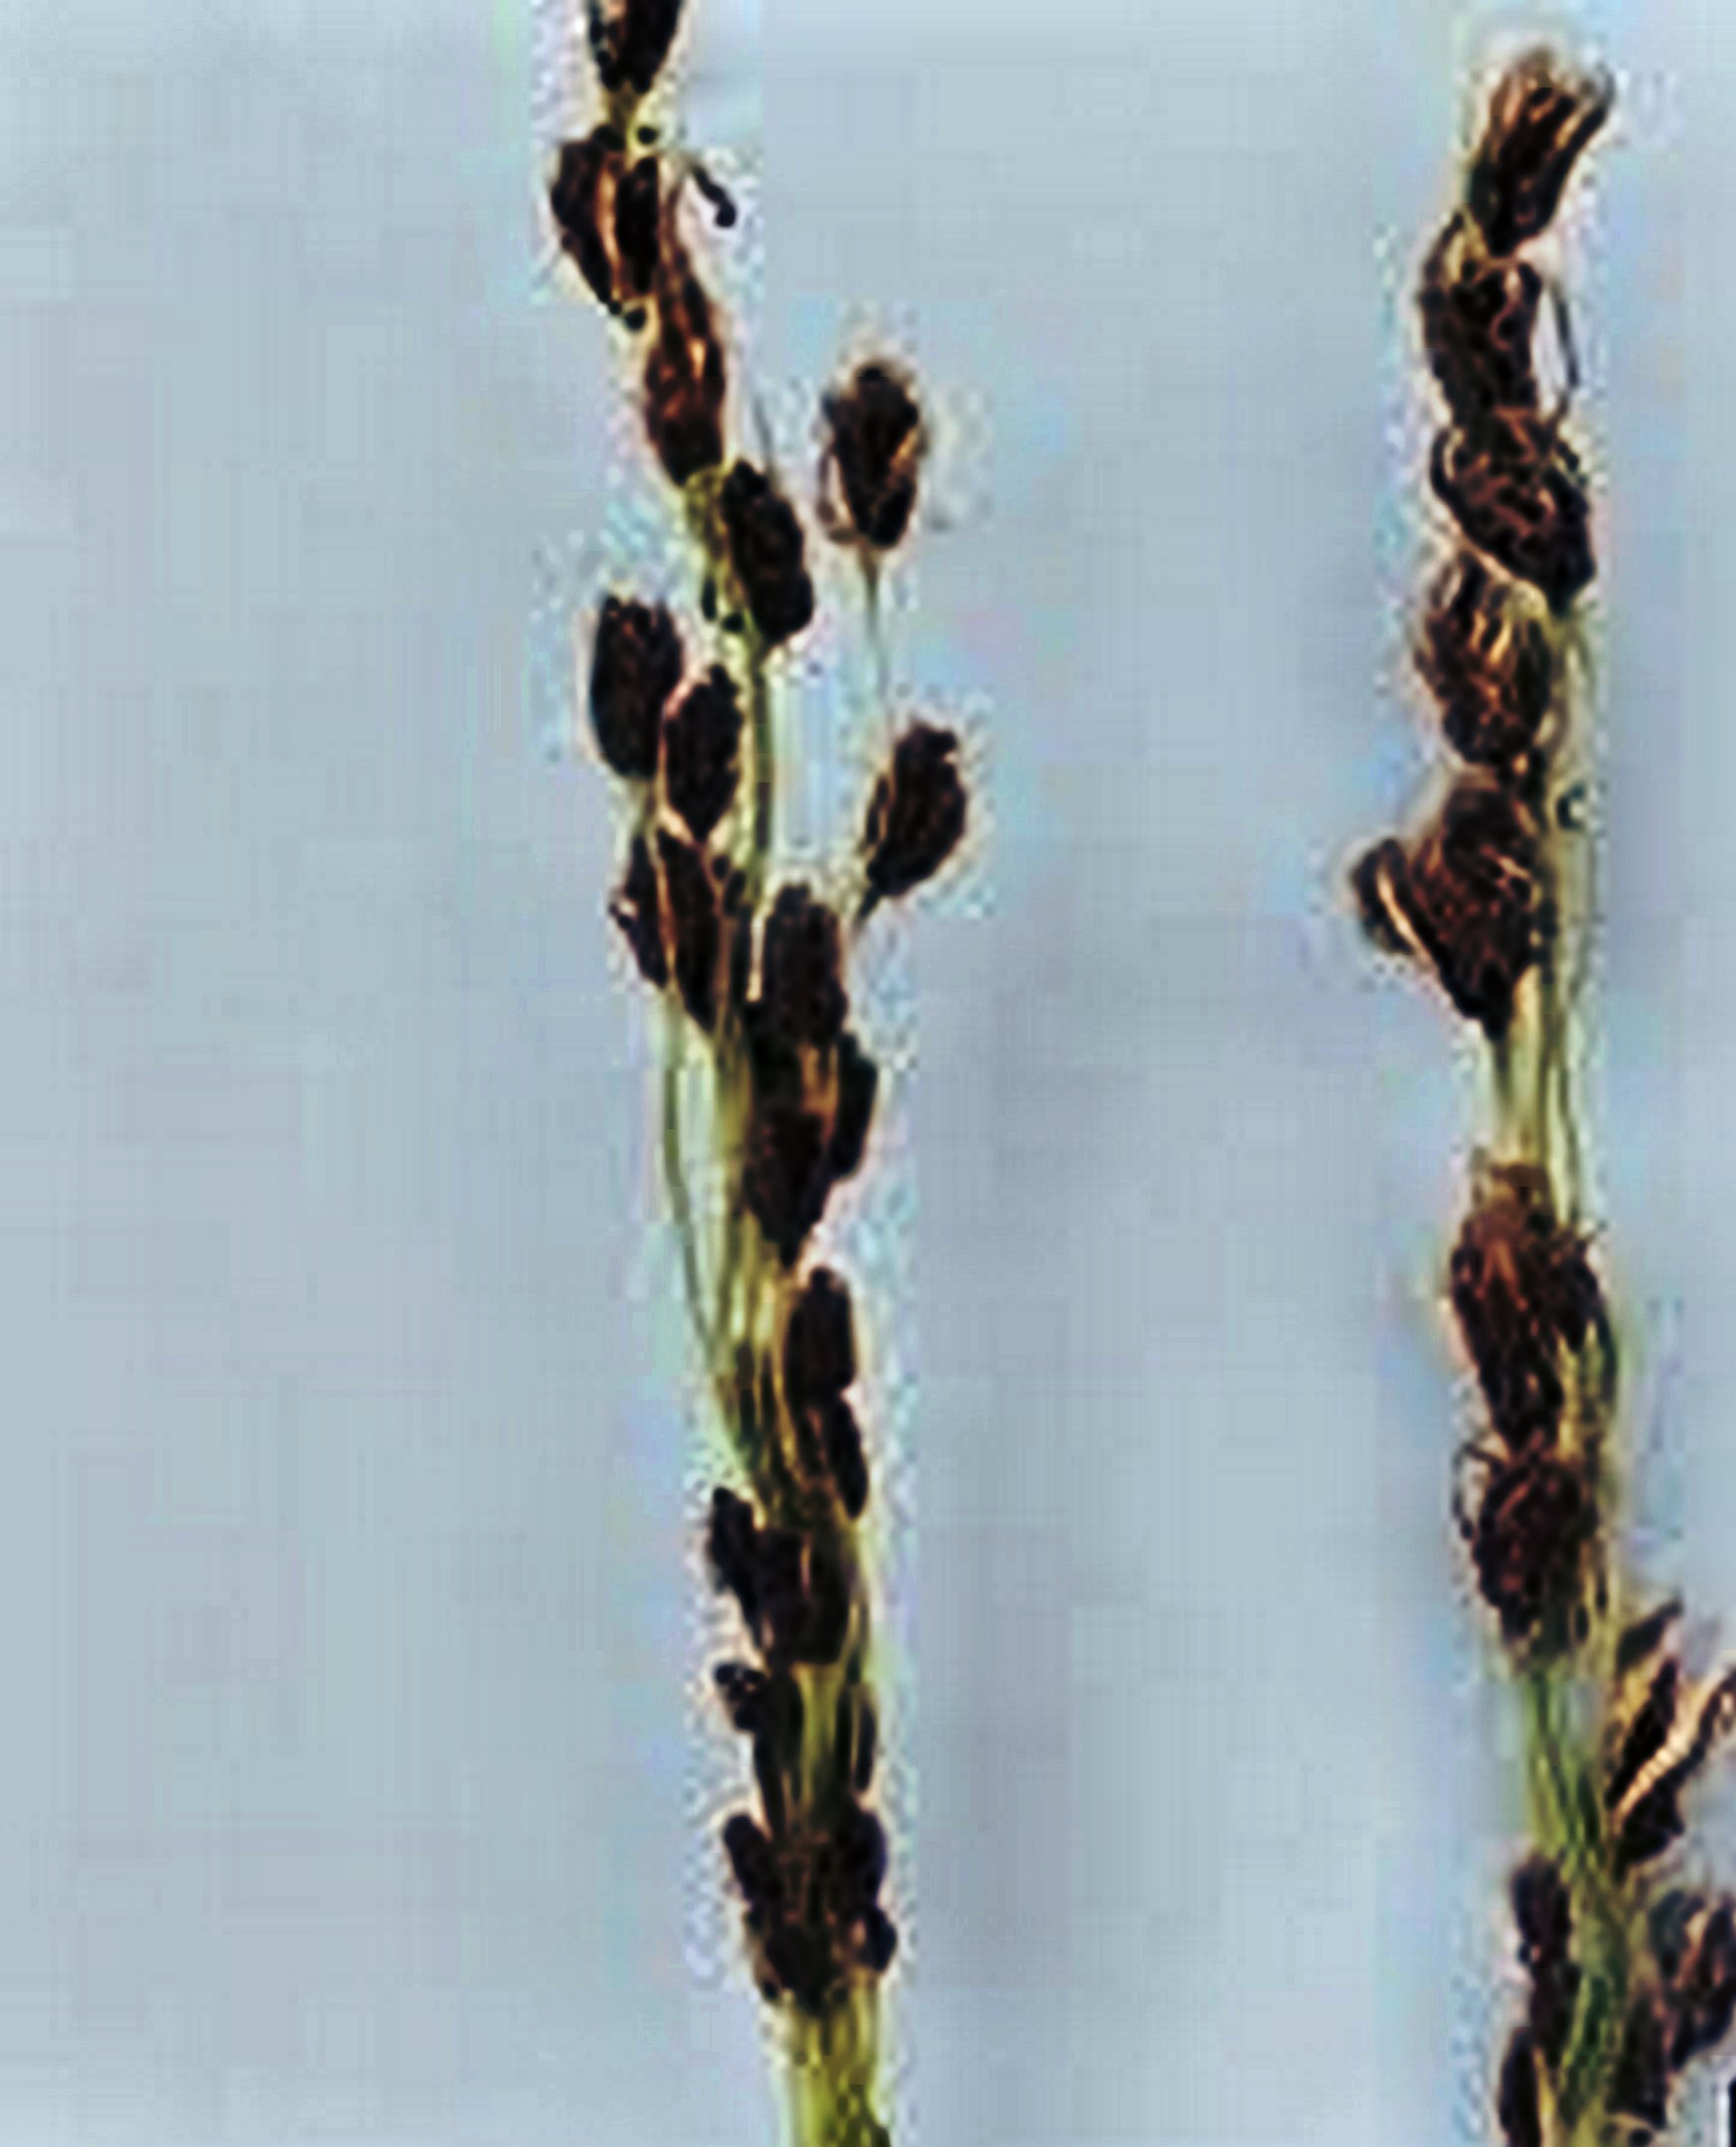Wheat Loose Smut: (478, 94, 1082, 2103)
